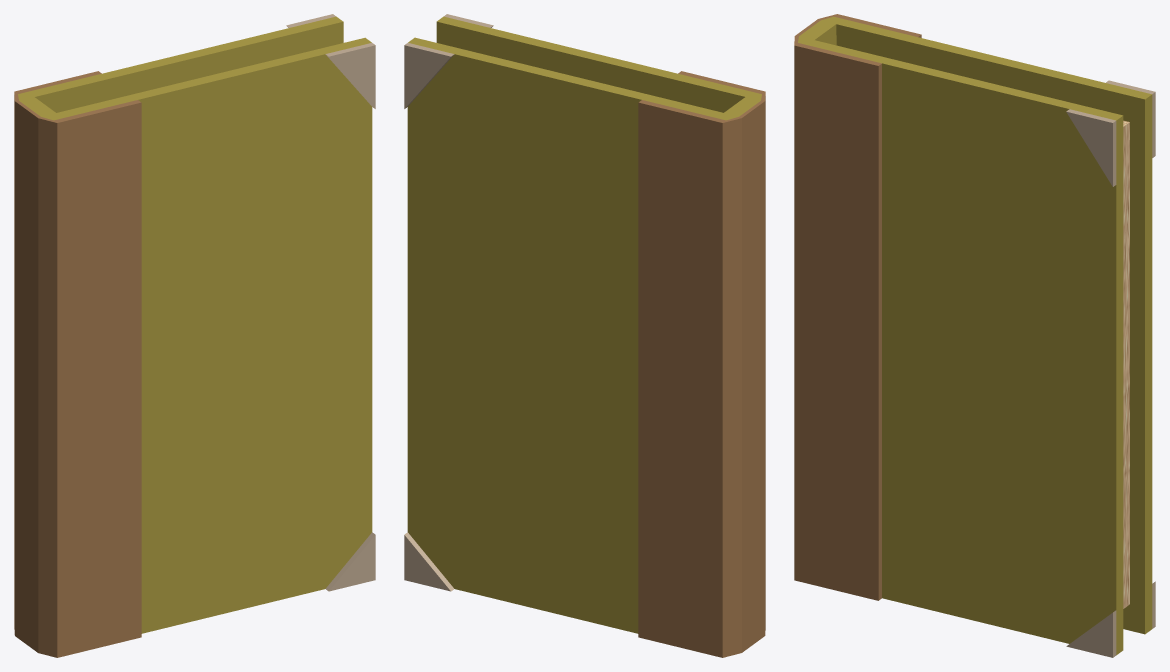
Rendered from Kreckler_GreenBk.fbx.
The picture shows the model from 3 angles, left to right: view 1: azimuth 30°, elevation 25°; view 2: azimuth 150°, elevation 25°; view 3: azimuth 330°, elevation 25°; orthographic projection.
Parts seen in each view (by area): view 1: Green; view 2: Green; view 3: Green.
Part boxes in pixels (x1=…): Green: x1=14, y1=14, x2=375, y2=657; Green: x1=404, y1=14, x2=765, y2=657; Green: x1=794, y1=14, x2=1155, y2=657.
Size of the model in its own units: 2.32 by 3.62 by 0.5282.
